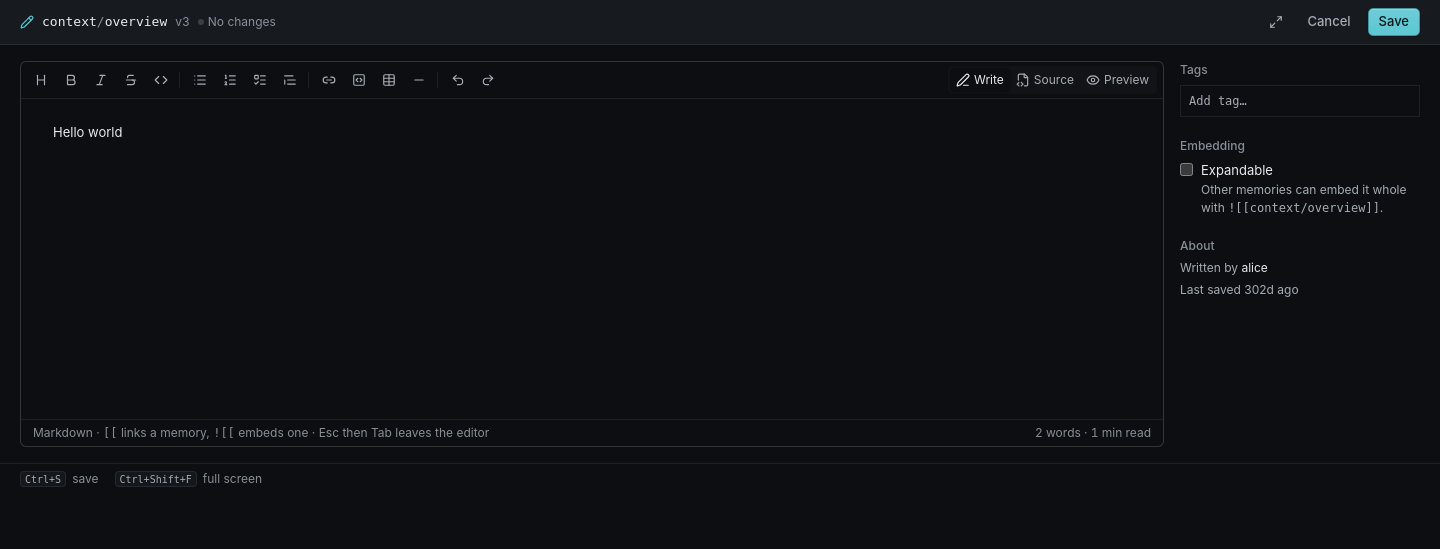
Test case: MemoryEditor › offers the text for copying when someone else saved first
Click the button "Save".
click(1394, 22)  # box [1368, 8, 1420, 36]
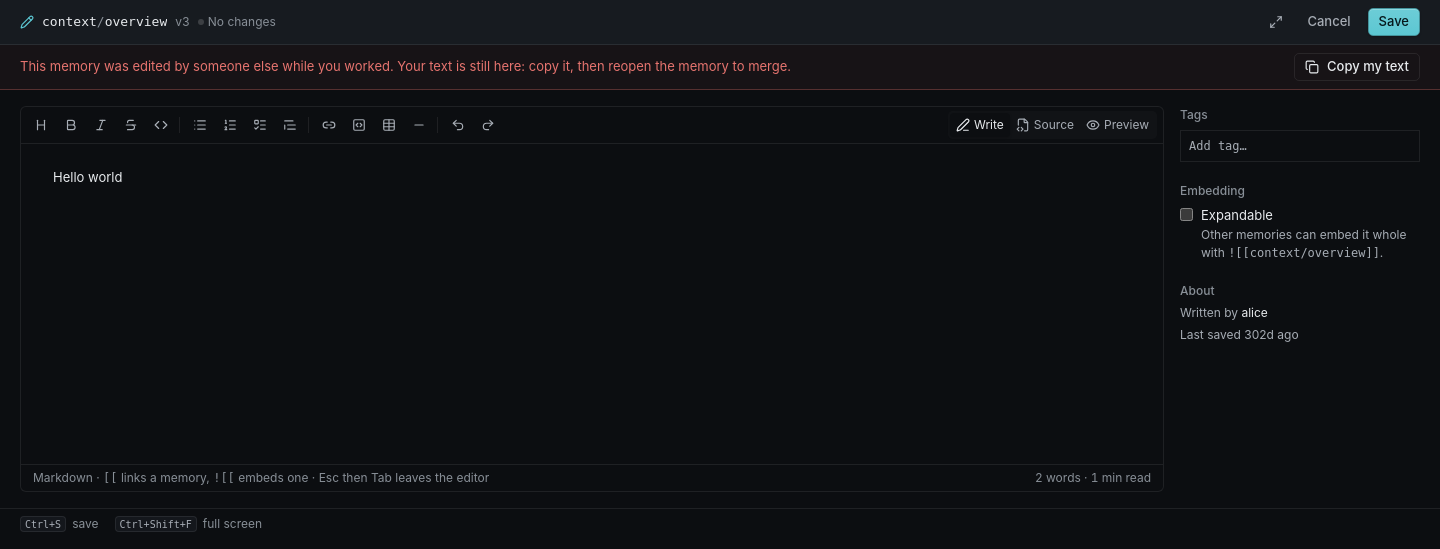
Now the button "Copy my text" is shown, box [1294, 53, 1420, 81]
